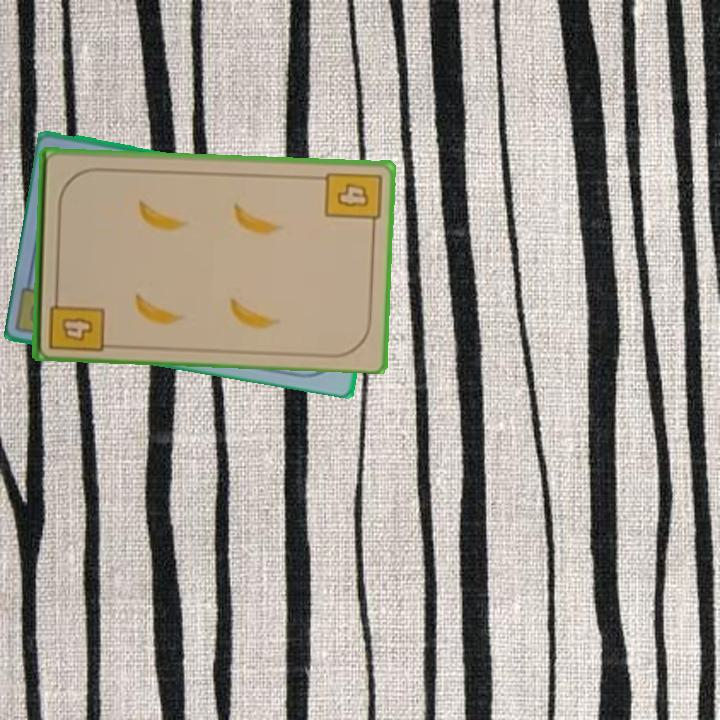4b: (44, 287, 107, 354), (321, 168, 384, 232)
